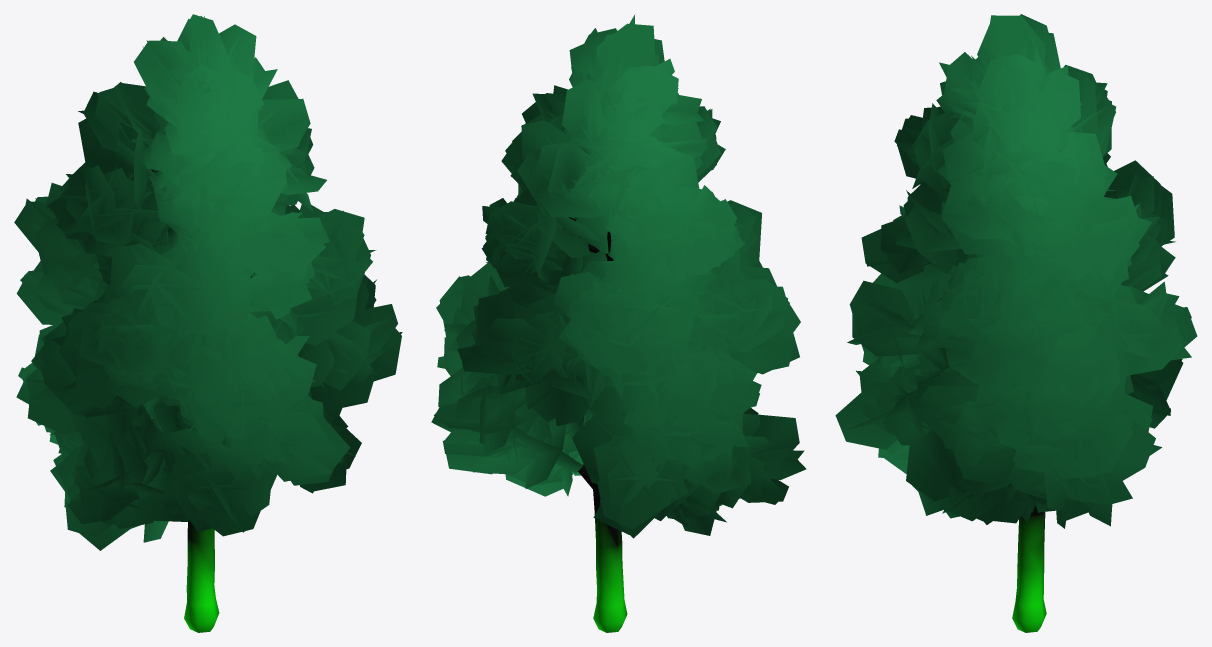
Rendered from SM_BirchTree1.fbx.
3 views of the same model, side by side, from view 1: azimuth 30°, elevation 25°; view 2: azimuth 150°, elevation 25°; view 3: azimuth 270°, elevation 25° (orthographic). The views are drawn at different scales.
Parts seen in each view (by area): view 1: SM_BirchTree1_LOD0; view 2: SM_BirchTree1_LOD0; view 3: SM_BirchTree1_LOD0.
Boxes of the visible parts, left/top/right/bottom form: SM_BirchTree1_LOD0: left=14, top=14, right=402, bottom=632; SM_BirchTree1_LOD0: left=431, top=15, right=806, bottom=632; SM_BirchTree1_LOD0: left=835, top=14, right=1197, bottom=632.
Size of what is drawn, in the model's own units: 1244 by 2152 by 1159.
